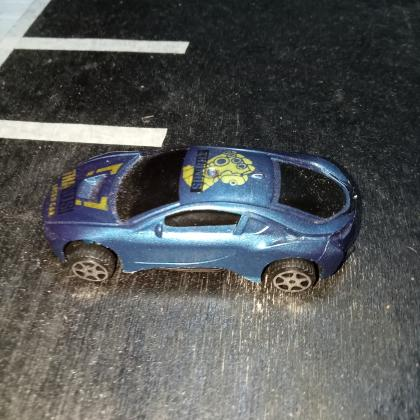Car: (41, 141, 361, 294)
